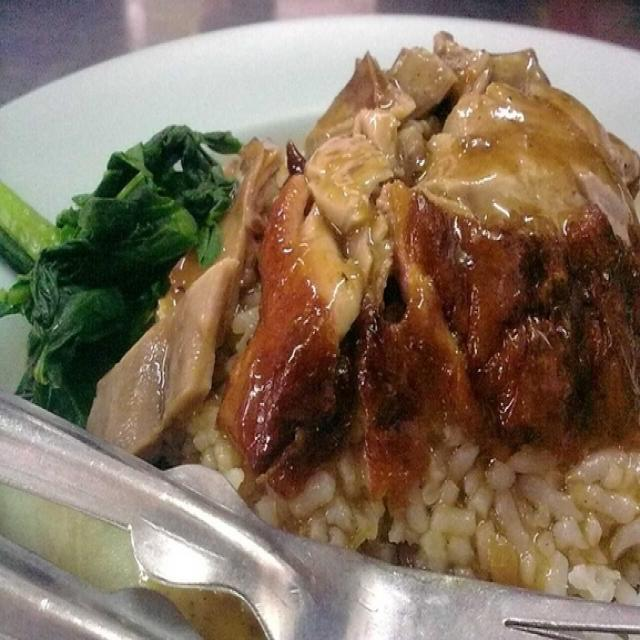米饭主食: (56, 34, 624, 607)
